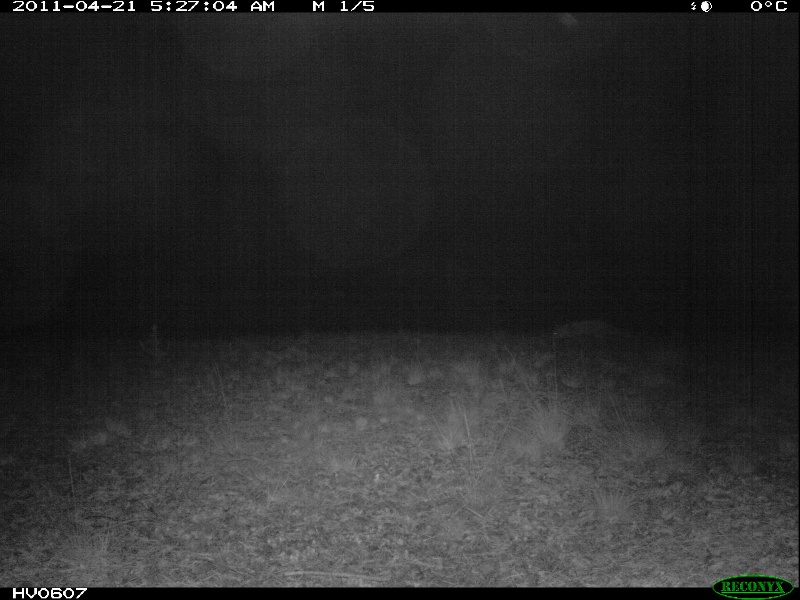fox: (548, 318, 614, 342)
